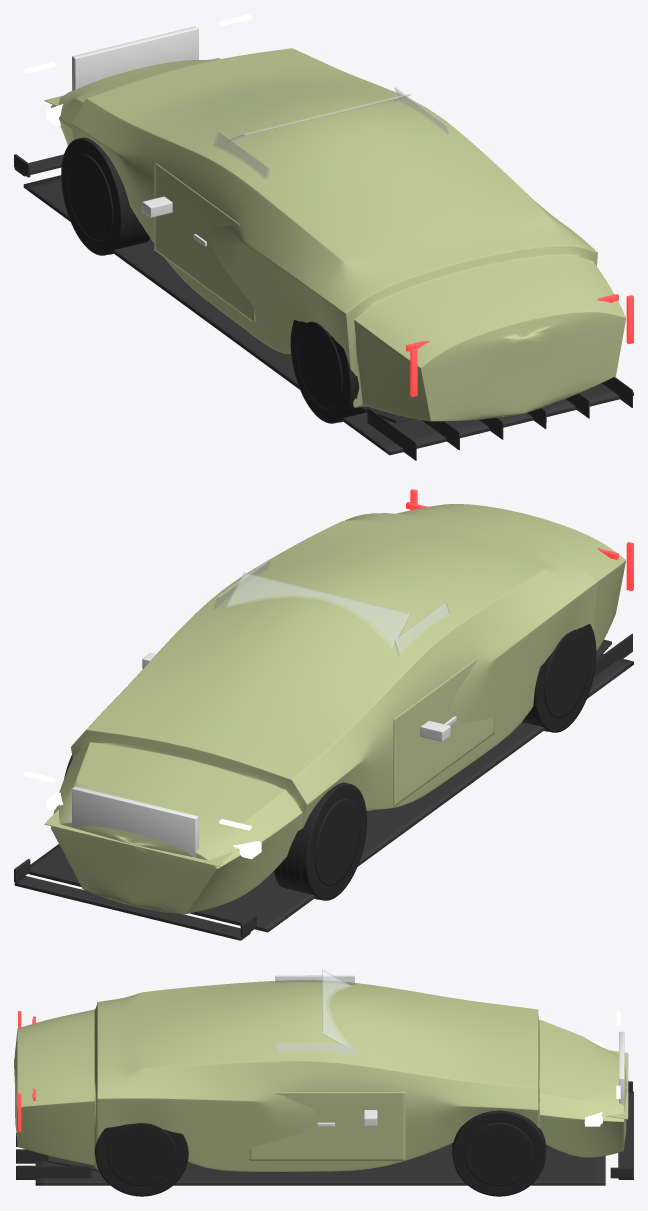
File: Car_RollsRoyce_Spectre_GT_future_Complete.glb
3 views of the same model, one above another, from view 1: azimuth 30°, elevation 25°; view 2: azimuth 150°, elevation 25°; view 3: azimuth 270°, elevation 25° (orthographic). The views are drawn at different scales.
Parts seen in each view (by area): view 1: BODY_MainShell, UNDERBODY_FlatFloor, WHEEL_FL_Tire, BODY_Door_FL, WHEEL_RL_Tire, JEWELRY_Spectre_PantheonGrille, GLASS_Greenhouse, LIGHTING_Spectre_VerticalTaillights, AERO_FrontSplitter; view 2: BODY_MainShell, UNDERBODY_FlatFloor, WHEEL_FL_Tire, BODY_Door_FL, WHEEL_RL_Tire, GLASS_Greenhouse, JEWELRY_Spectre_PantheonGrille, AERO_FrontSplitter, BODY_Hood, JEWELRY_Hardware; view 3: BODY_MainShell, UNDERBODY_FlatFloor, BODY_Door_FR, WHEEL_FR_Tire, WHEEL_RR_Tire, GLASS_Greenhouse, AERO_FrontSplitter, JEWELRY_Spectre_PantheonGrille, BODY_Hood.
Boxes of the visible parts, bbox=[...] form: BODY_MainShell: bbox=[51, 48, 625, 421]; UNDERBODY_FlatFloor: bbox=[23, 175, 633, 460]; WHEEL_FL_Tire: bbox=[61, 137, 149, 255]; BODY_Door_FL: bbox=[154, 162, 255, 323]; WHEEL_RL_Tire: bbox=[290, 319, 366, 423]; JEWELRY_Spectre_PantheonGrille: bbox=[72, 26, 198, 90]; GLASS_Greenhouse: bbox=[213, 87, 449, 179]; LIGHTING_Spectre_VerticalTaillights: bbox=[410, 295, 633, 396]; AERO_FrontSplitter: bbox=[14, 154, 63, 177]; BODY_MainShell: bbox=[50, 504, 625, 914]; UNDERBODY_FlatFloor: bbox=[28, 633, 633, 932]; WHEEL_FL_Tire: bbox=[274, 782, 366, 900]; BODY_Door_FL: bbox=[393, 656, 494, 806]; WHEEL_RL_Tire: bbox=[522, 624, 596, 732]; GLASS_Greenhouse: bbox=[213, 559, 449, 654]; JEWELRY_Spectre_PantheonGrille: bbox=[72, 786, 198, 857]; AERO_FrontSplitter: bbox=[14, 859, 256, 940]; BODY_Hood: bbox=[44, 809, 232, 866]; JEWELRY_Hardware: bbox=[142, 653, 456, 741]; BODY_MainShell: bbox=[14, 980, 627, 1171]; UNDERBODY_FlatFloor: bbox=[16, 1133, 605, 1185]; BODY_Door_FR: bbox=[249, 1092, 405, 1160]; WHEEL_FR_Tire: bbox=[452, 1110, 546, 1196]; WHEEL_RR_Tire: bbox=[95, 1123, 188, 1196]; GLASS_Greenhouse: bbox=[275, 969, 354, 1055]; AERO_FrontSplitter: bbox=[610, 1081, 633, 1179]; JEWELRY_Spectre_PantheonGrille: bbox=[619, 1031, 624, 1108]; BODY_Hood: bbox=[605, 1050, 628, 1119].
Size of what is drawn, in the model's own units: 2.43 by 1.48 by 5.57.
